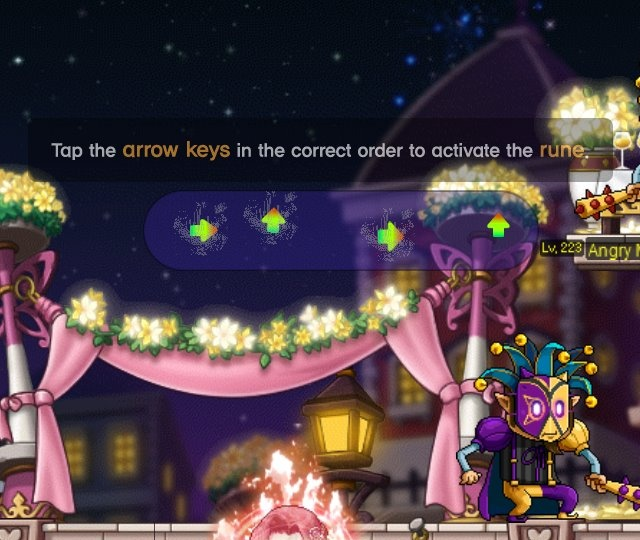rune_box: (132, 181, 554, 281)
